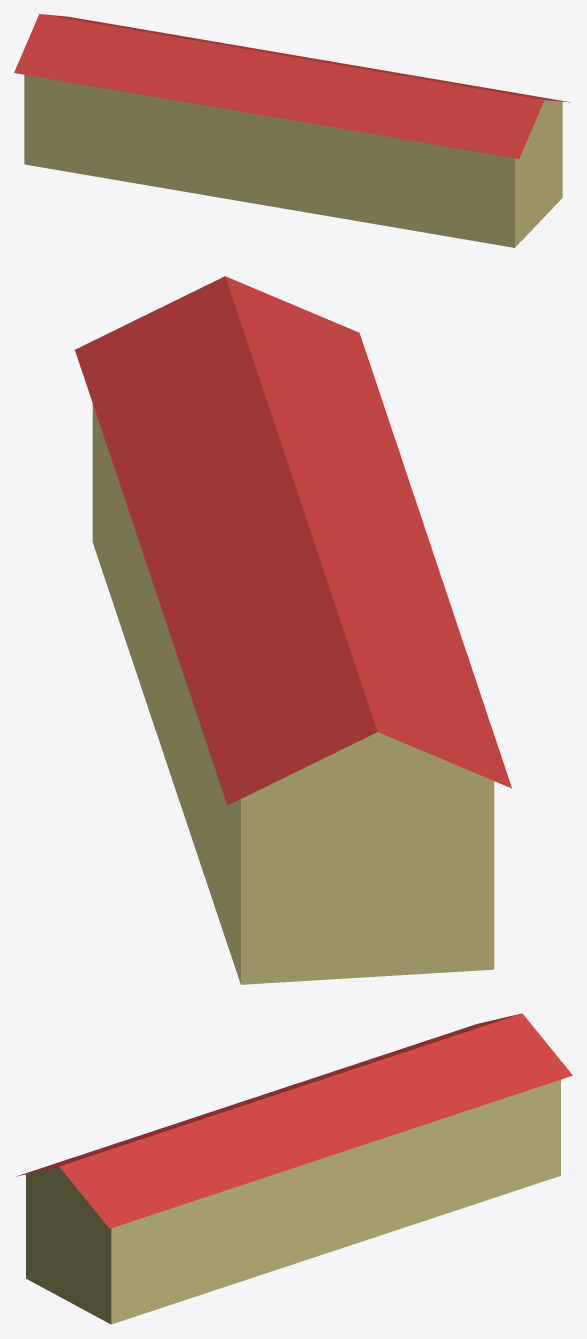
3 views of the same model, one above another, from view 1: azimuth 30°, elevation 25°; view 2: azimuth 150°, elevation 25°; view 3: azimuth 270°, elevation 25° (orthographic). The views are drawn at different scales.
Bounding box in the file's own units: 28.31 × 32.63 × 8.75.
